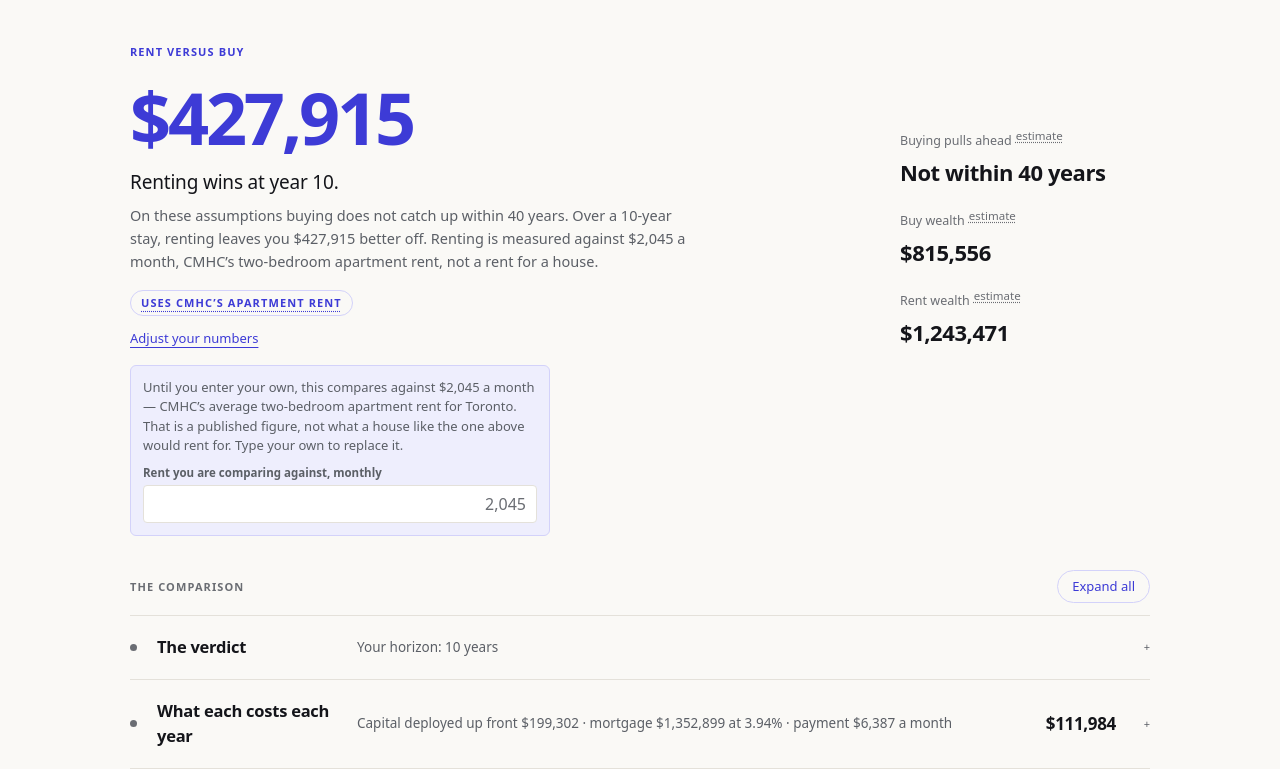
Test: Rent vs buy — an apartment rent cannot price a house › keeps asking for the reader's own rent in place, and typing replaces the default
Type "4200" into the field with id "rent-inline". click: point(340, 504)
box: [143,485,537,523]
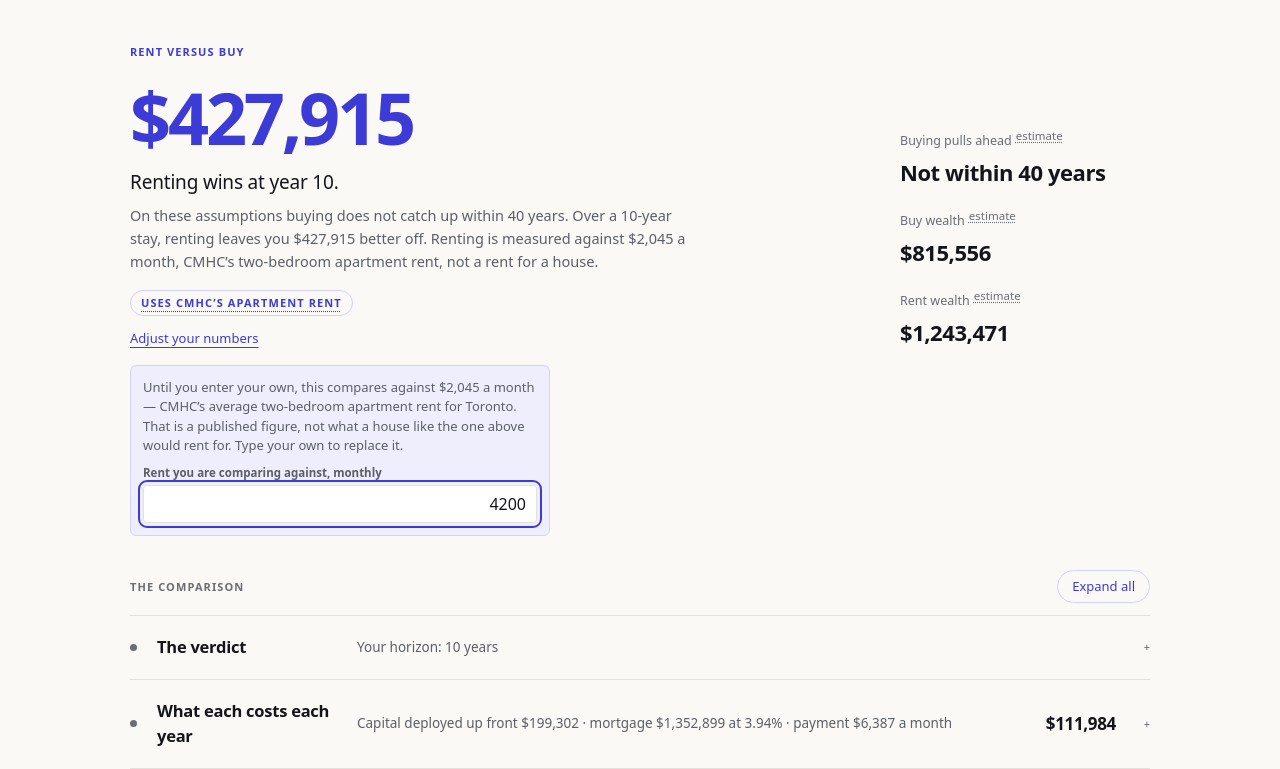
Press Tab
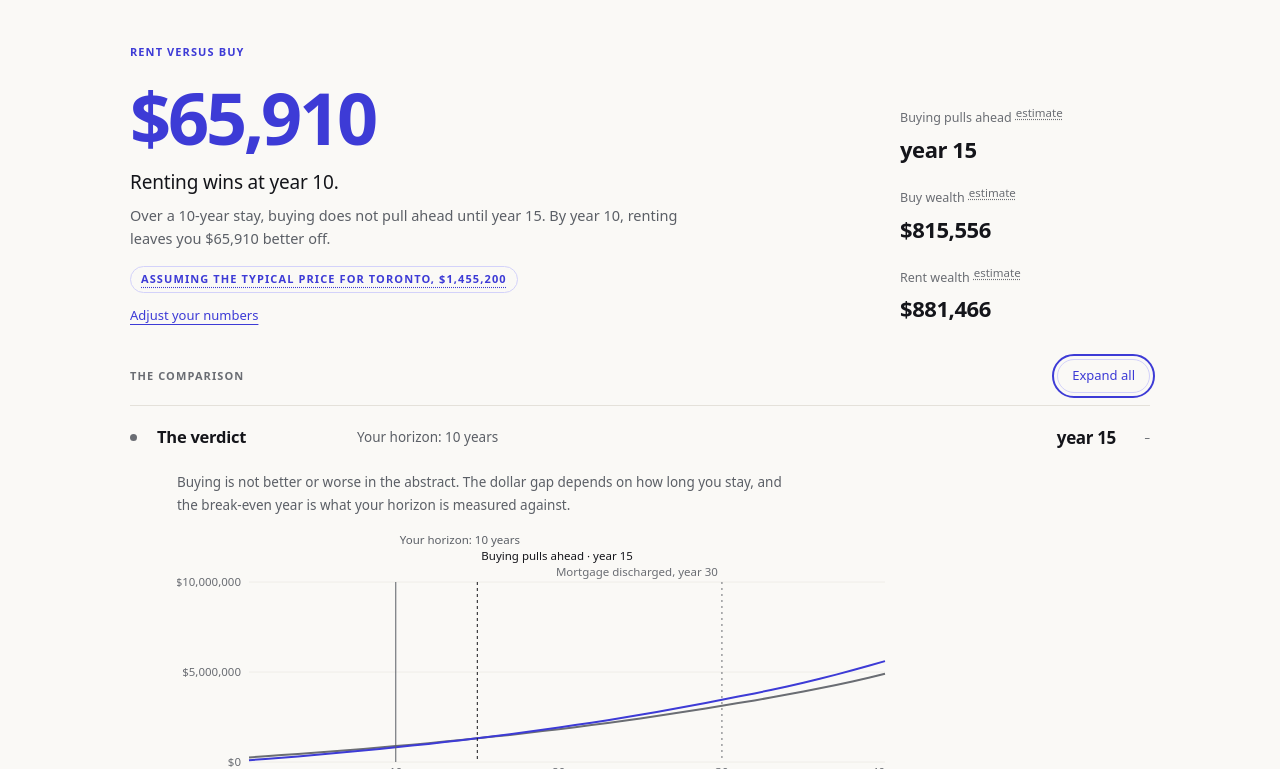
Expected: the button "Uses CMHC’s apartment rent" is gone
Expected: the label with id "rent-inline" is gone
